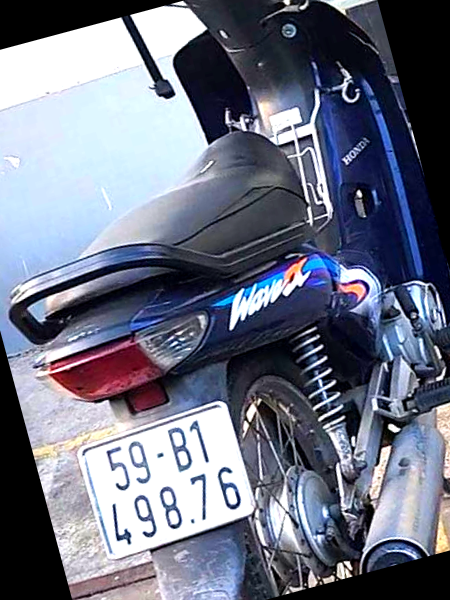number: (78, 399, 254, 563)
